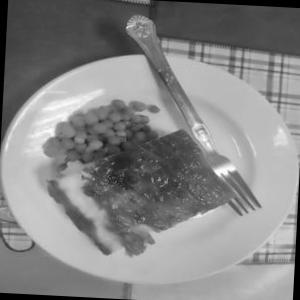casserole: (32, 90, 235, 267)
